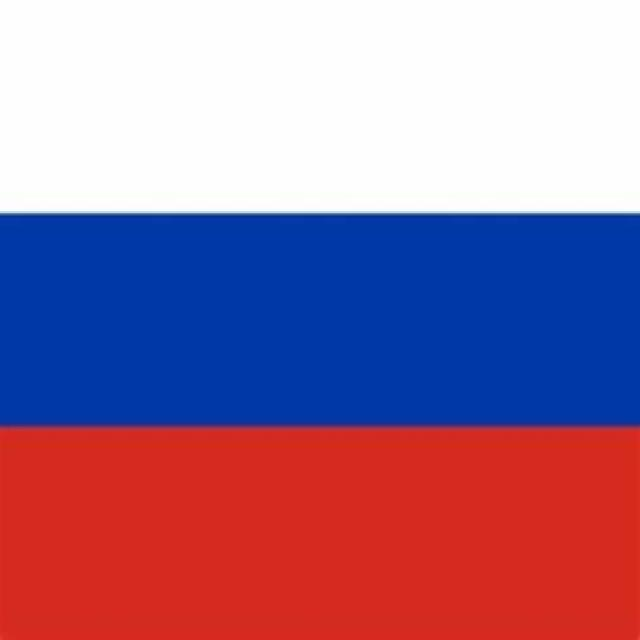russia: (13, 17, 615, 604)
